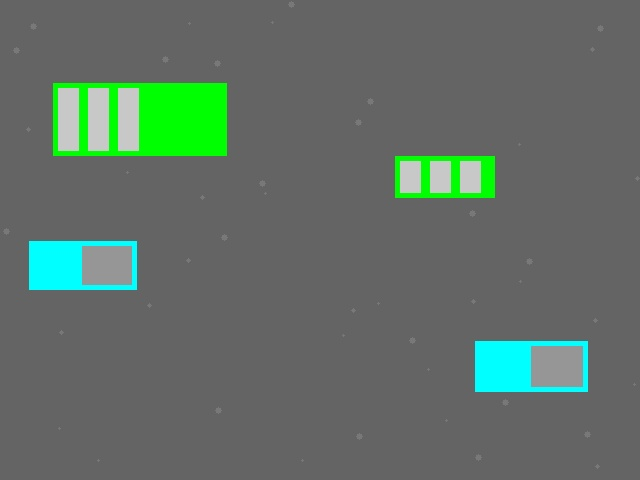bus: (53, 83, 226, 155), (395, 156, 494, 197)
truck: (475, 341, 587, 391), (29, 241, 136, 289)
